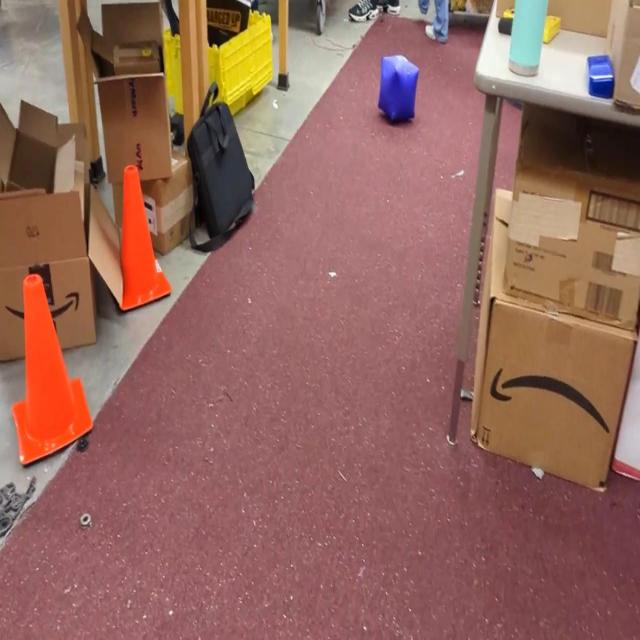frc_cube: (376, 51, 422, 126)
